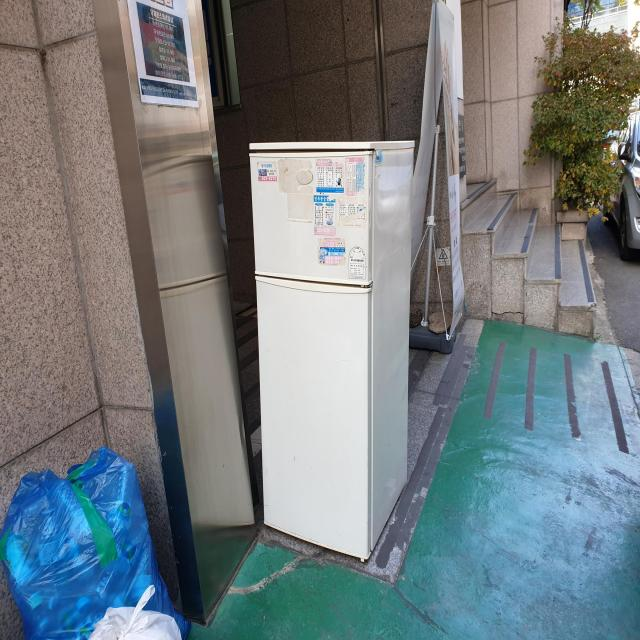refrigerator: (246, 136, 415, 564)
